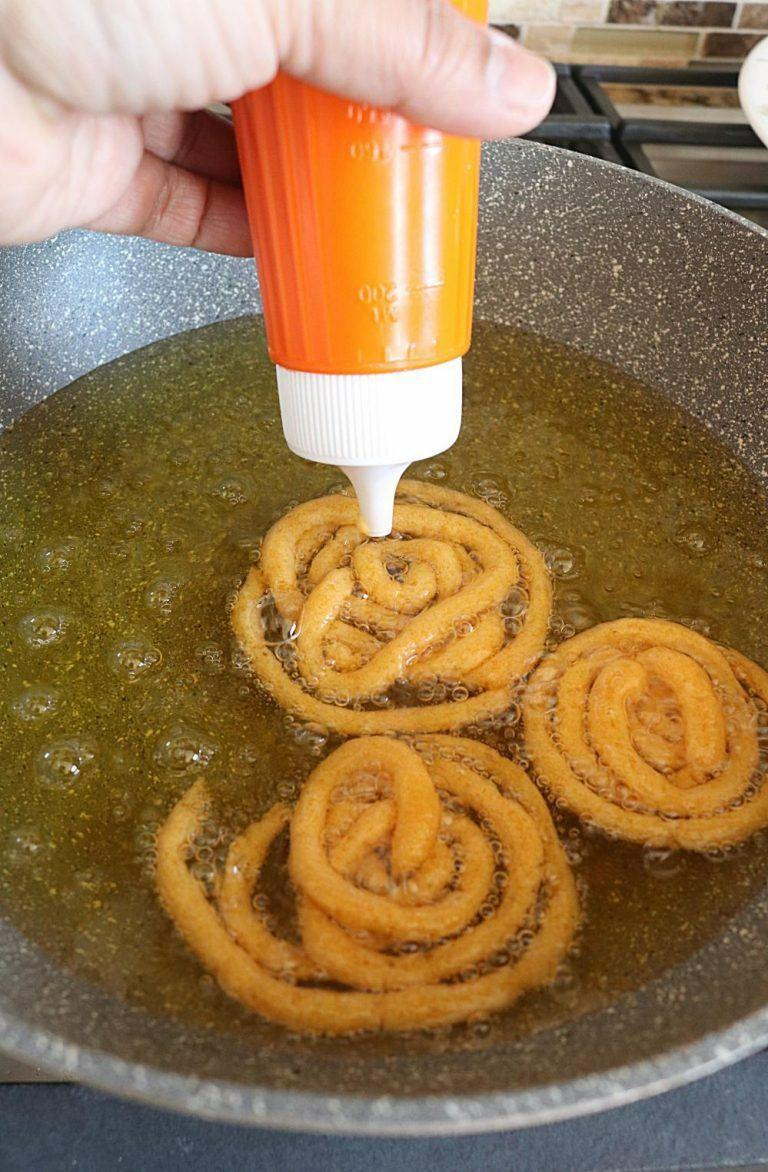Jalebi: (138, 463, 768, 1042)
